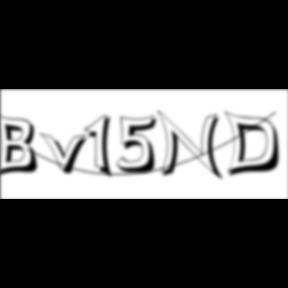1: (83, 114, 118, 182)
5: (116, 114, 164, 176)
B: (0, 111, 44, 179)
D: (224, 110, 286, 180)
N: (157, 109, 227, 183)
v: (41, 131, 95, 177)
